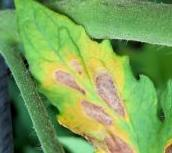Tomato Early blight leaf: (15, 0, 172, 153)
